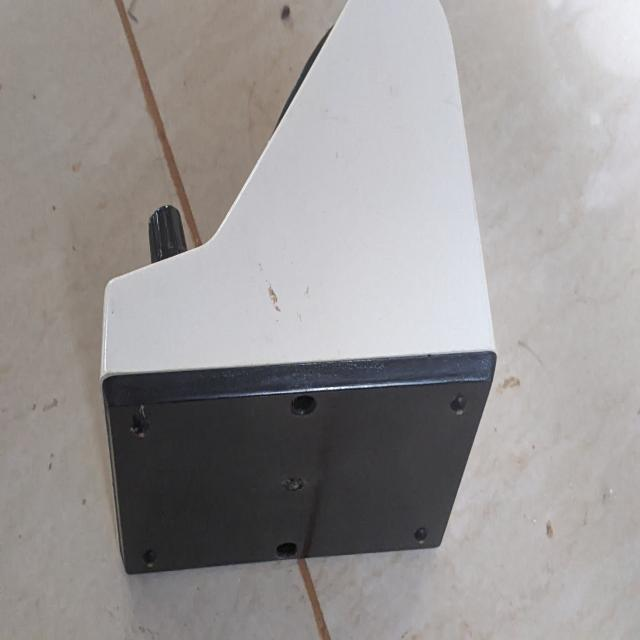Ammeter Analog: (91, 3, 501, 570)
